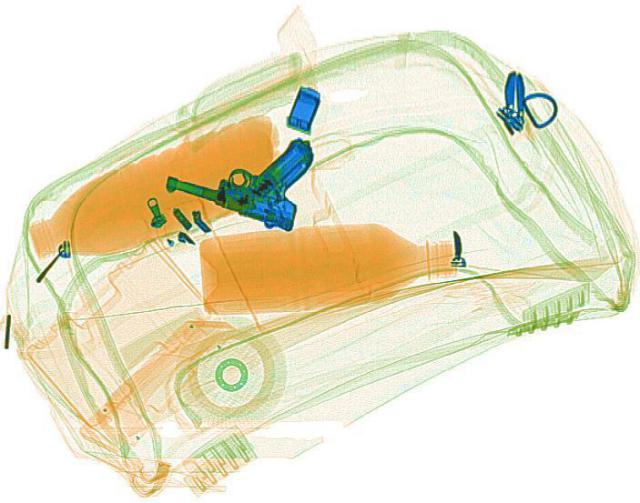Gun: (157, 108, 340, 234)
